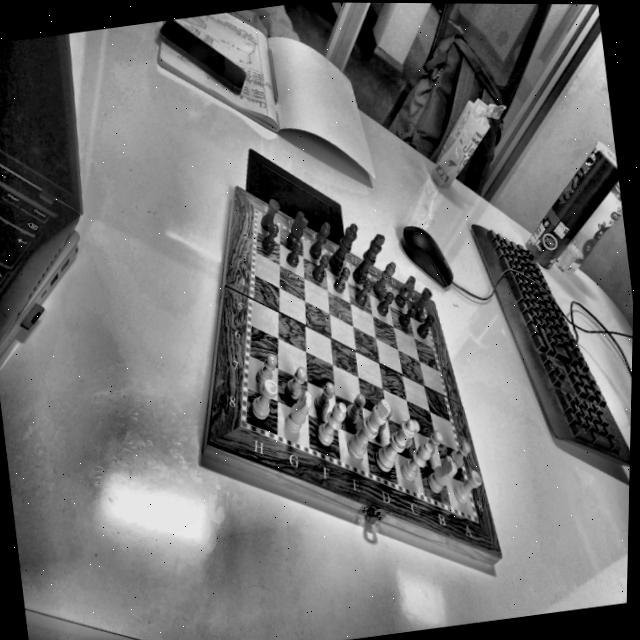black-bishop: (304, 219, 333, 261), (370, 261, 400, 295)
black-king: (348, 232, 390, 282)
black-knight: (284, 211, 312, 248), (392, 273, 418, 309)
black-pawn: (258, 222, 282, 259), (307, 250, 332, 284), (330, 263, 352, 296), (352, 276, 375, 307), (414, 315, 436, 343), (284, 238, 304, 268), (395, 305, 419, 328), (374, 292, 396, 317)
black-queen: (325, 218, 363, 269)
black-rook: (256, 197, 283, 232), (411, 284, 433, 316)
white-bishop: (394, 439, 438, 486), (313, 400, 352, 447)
white-king: (343, 397, 398, 463)
white-knight: (422, 452, 463, 498), (280, 391, 315, 437)
white-pawn: (282, 365, 312, 402), (374, 395, 403, 433), (310, 378, 339, 414), (342, 391, 369, 425), (252, 353, 279, 387), (401, 413, 427, 448), (448, 438, 475, 470), (425, 427, 447, 459)
white-queen: (371, 419, 420, 472)
white-rook: (244, 378, 283, 424), (452, 466, 485, 508)
